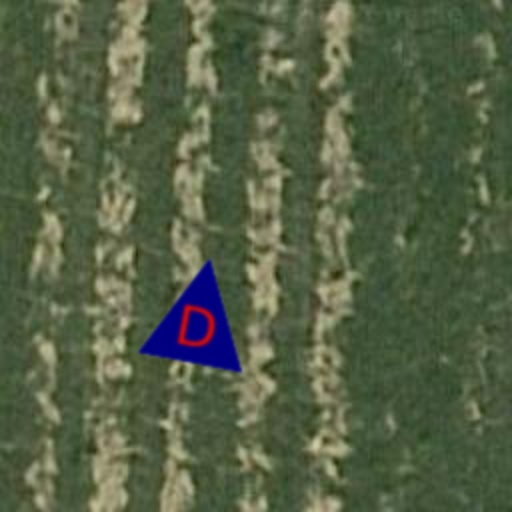triangle: (136, 246, 264, 374)
